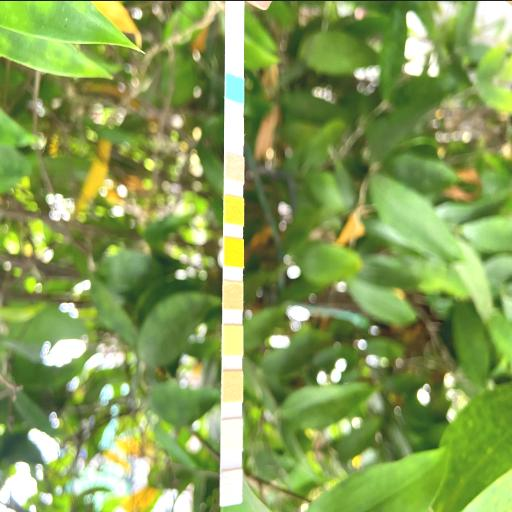Bilirubin: (225, 117, 244, 138)
Blood: (224, 239, 244, 265)
Glucose: (226, 78, 244, 98)
Ketone: (224, 156, 244, 178)
Leukocytes: (220, 471, 242, 501)
Nitrite: (222, 420, 242, 450)
Protein: (222, 325, 243, 355)
SpGravity: (224, 198, 244, 222)
Urobilinogen: (222, 371, 244, 401)
pH: (223, 280, 243, 308)
strip: (220, 6, 245, 505)
